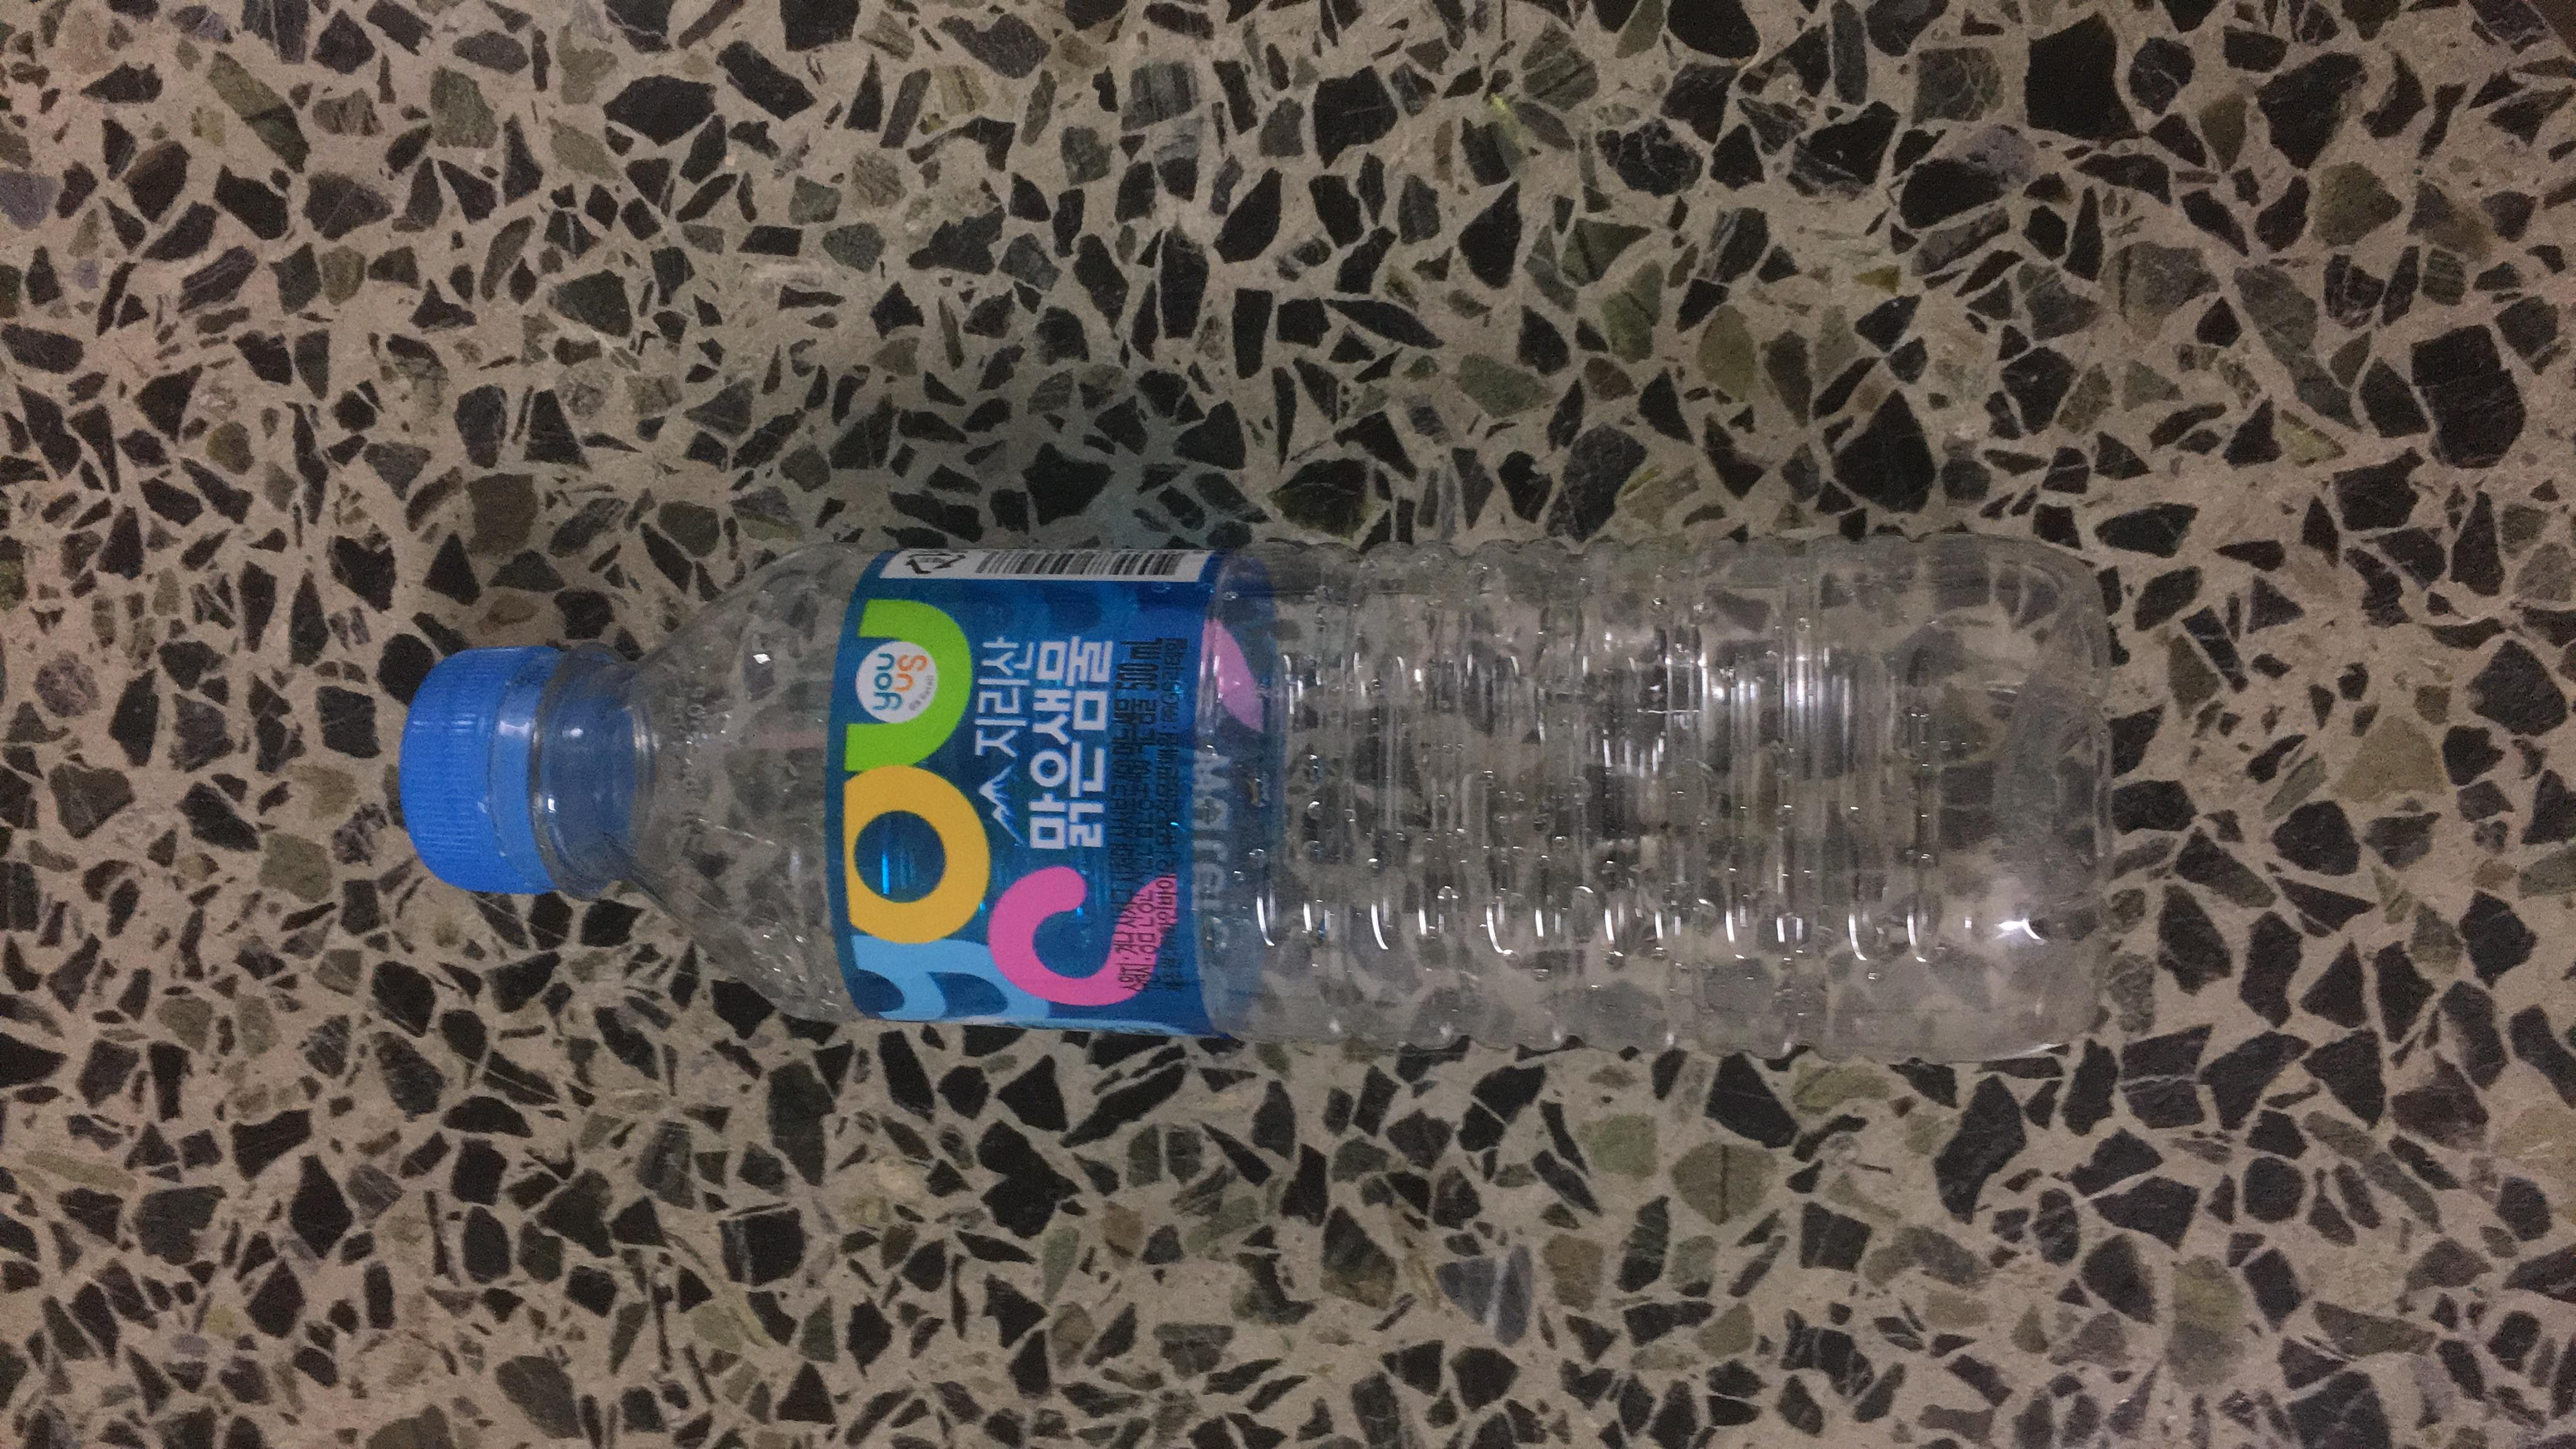bottle: (697, 198, 1727, 1249)
